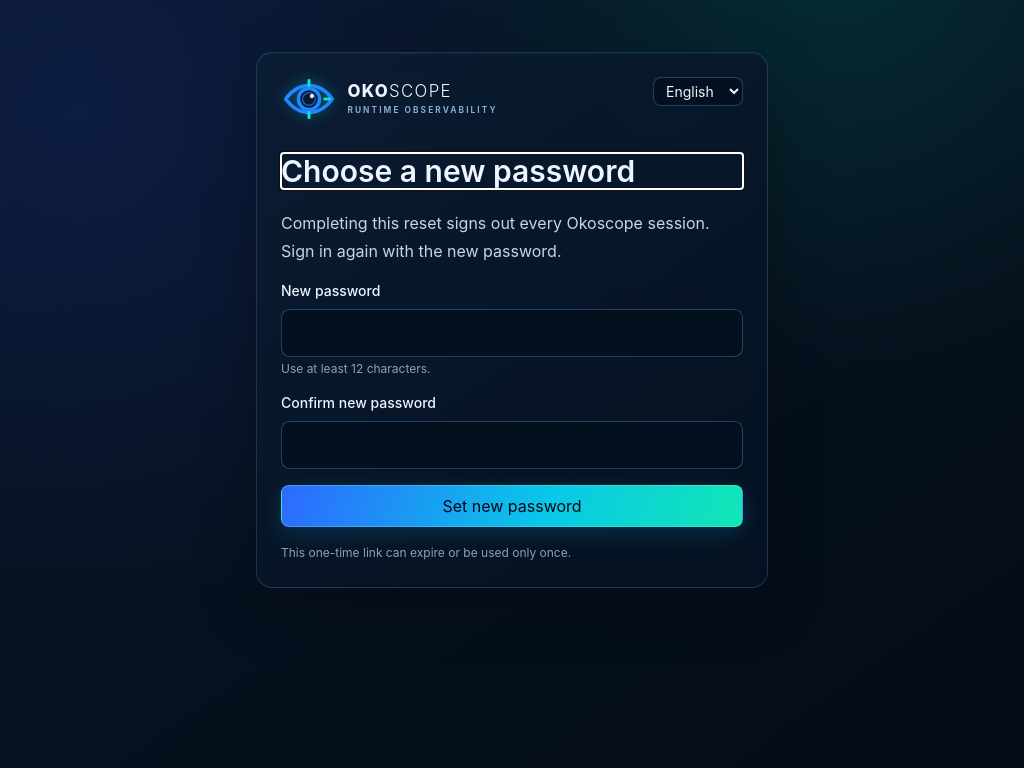
Test: email security flows › blocks mismatched reset passwords and completes with a matching password
Step 1. Type "correct horse battery" into the password field labelled "New password" → (512, 333), box [281,309,743,357]
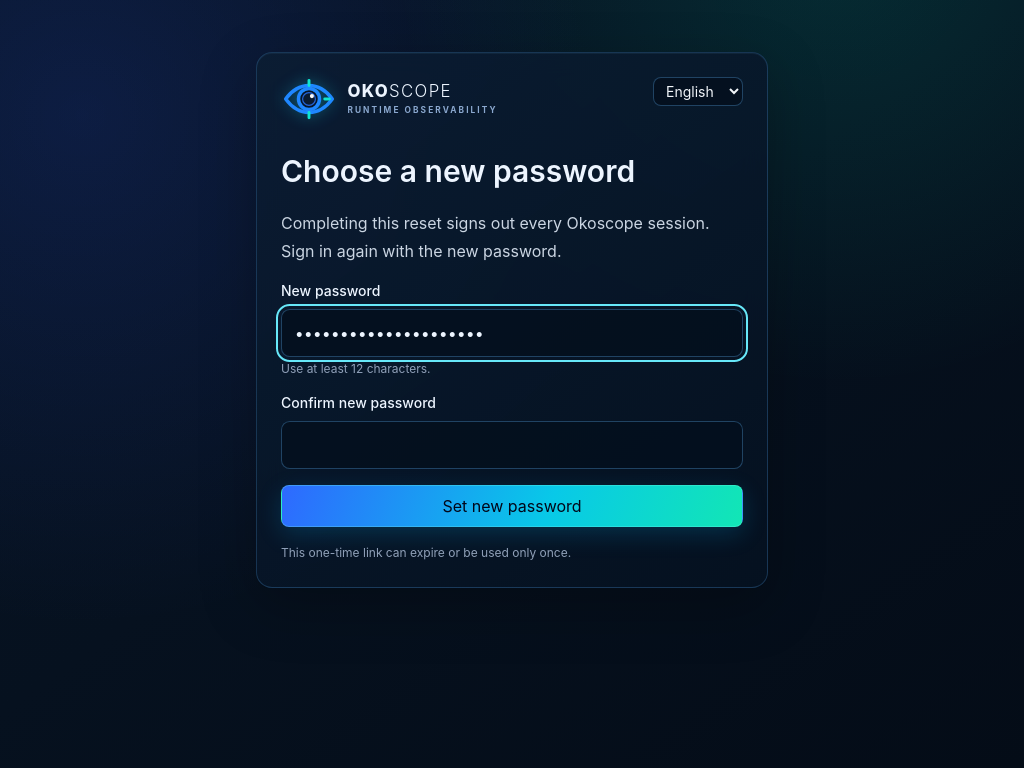
Step 2. Type "different password" into the password field labelled "Confirm new password" → (512, 445), box [281,421,743,469]
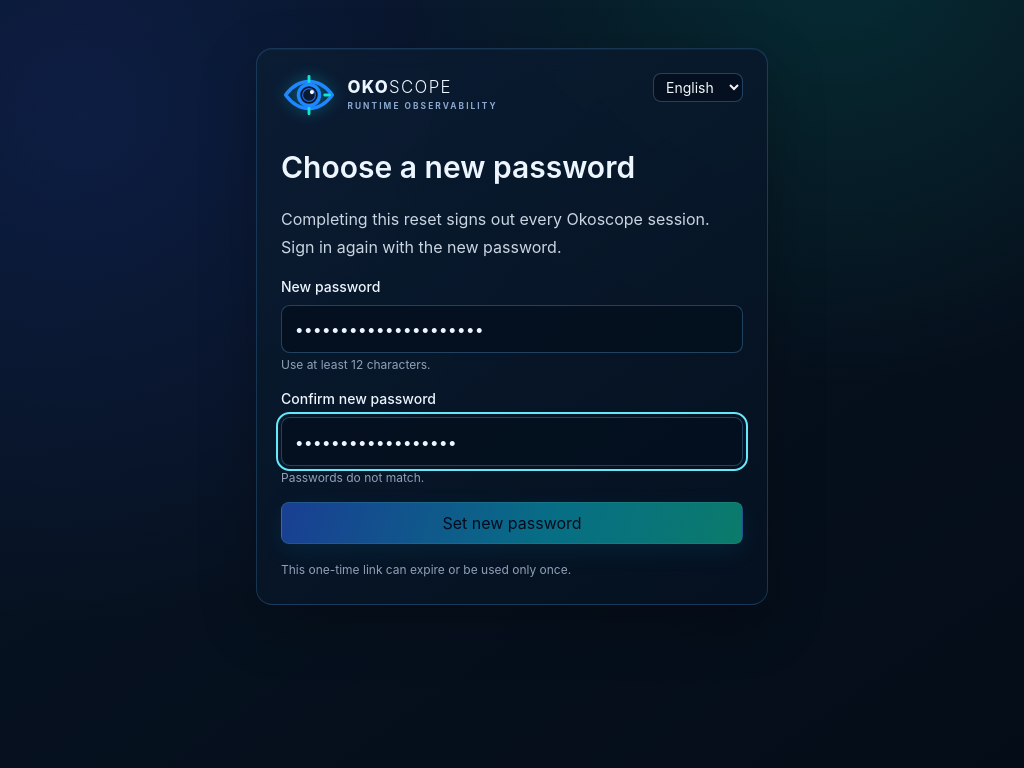
Now the button "Set new password" is disabled, box [281,502,743,544]
Step 3. Clear the password field labelled "Confirm new password" → (512, 442), box [281,417,743,466]
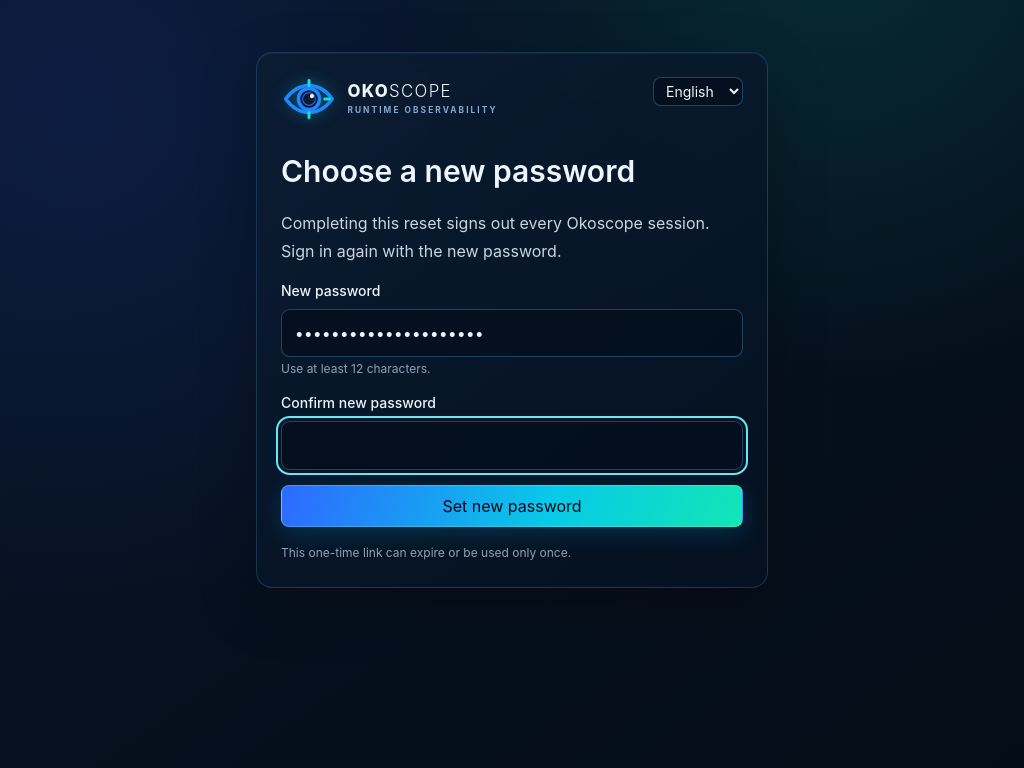
Step 4. Type "correct horse battery" into the password field labelled "Confirm new password" → (512, 445), box [281,421,743,469]
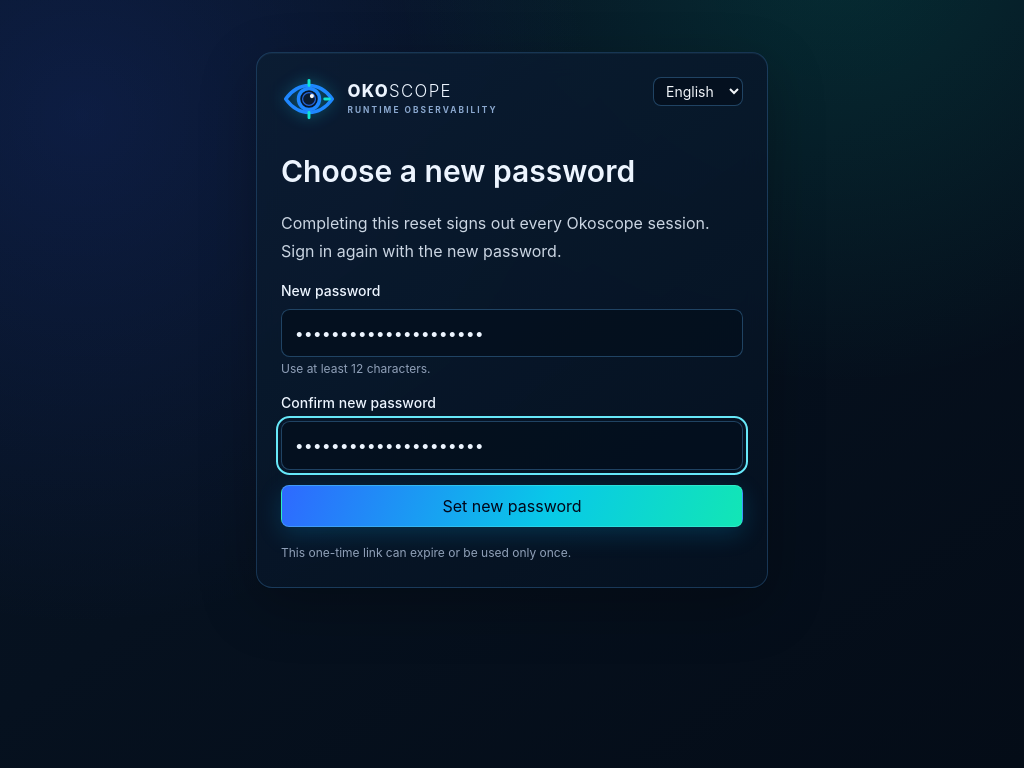
Step 5. Click the button "Set new password" → (512, 506), box [281,485,743,527]
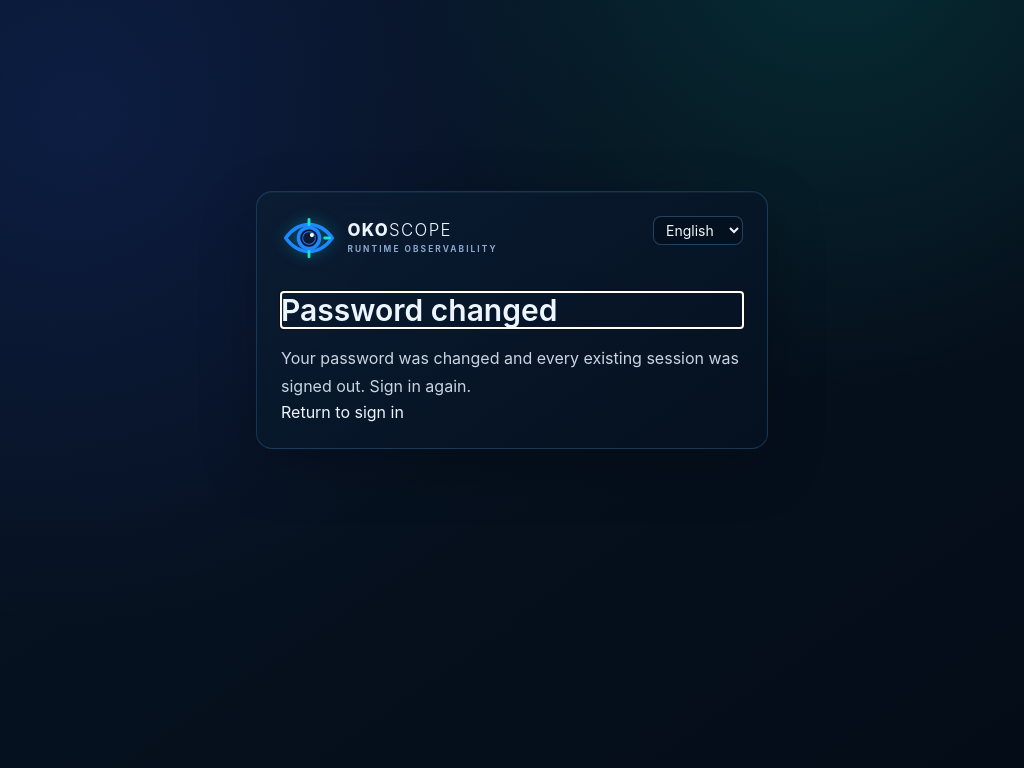
Now the heading "Password changed" is shown, box [281,292,558,328]
